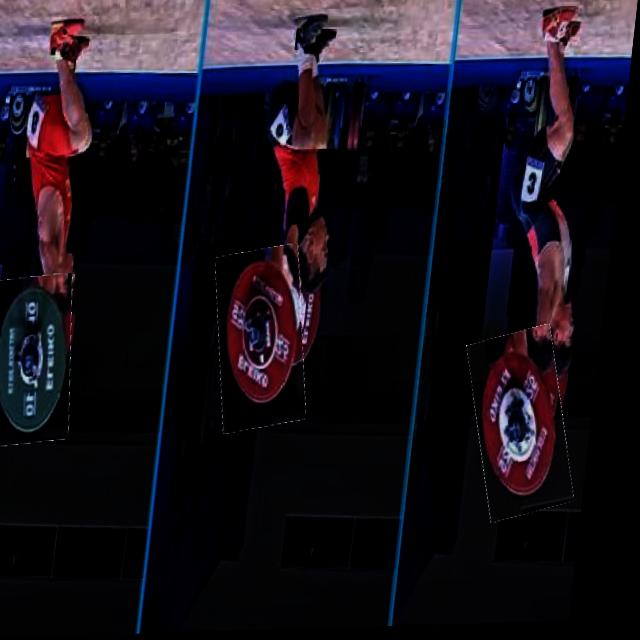barbell: (471, 331, 591, 524), (214, 249, 325, 435), (1, 276, 90, 448)
